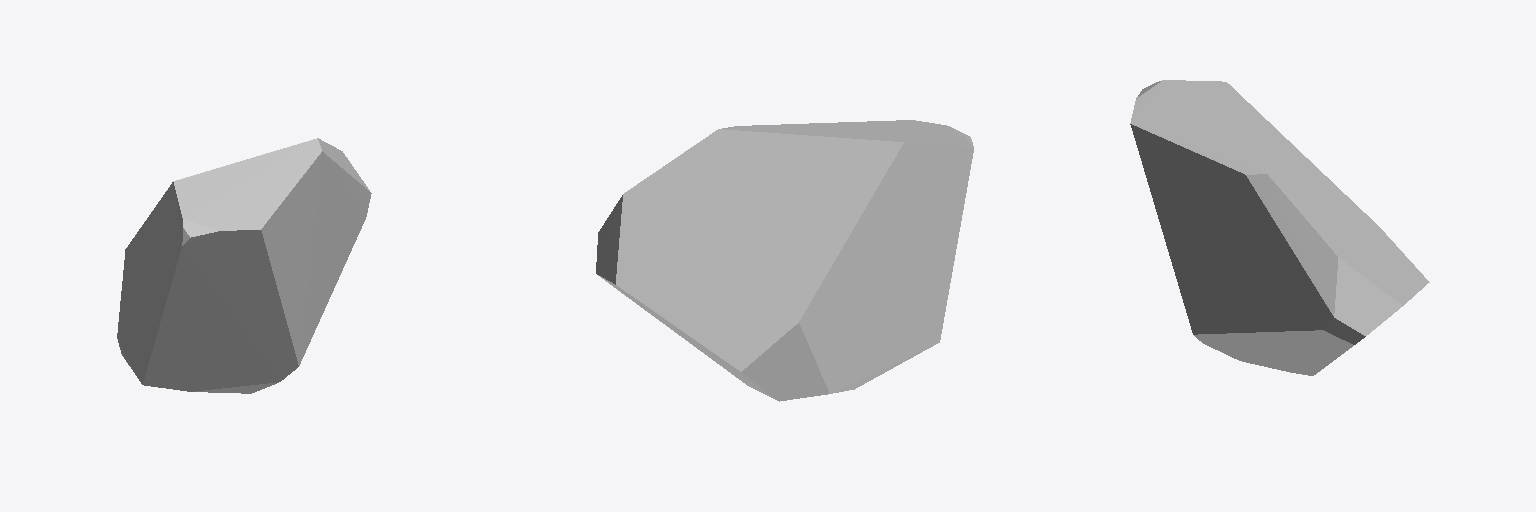
File: Sphere_Cell_Fracture21.obj
The picture shows the model from 3 angles: view 1: azimuth 30°, elevation 25°; view 2: azimuth 150°, elevation 25°; view 3: azimuth 270°, elevation 25°; orthographic projection.
Bounding box in the file's own units: 0.8005 × 0.6479 × 0.7272.